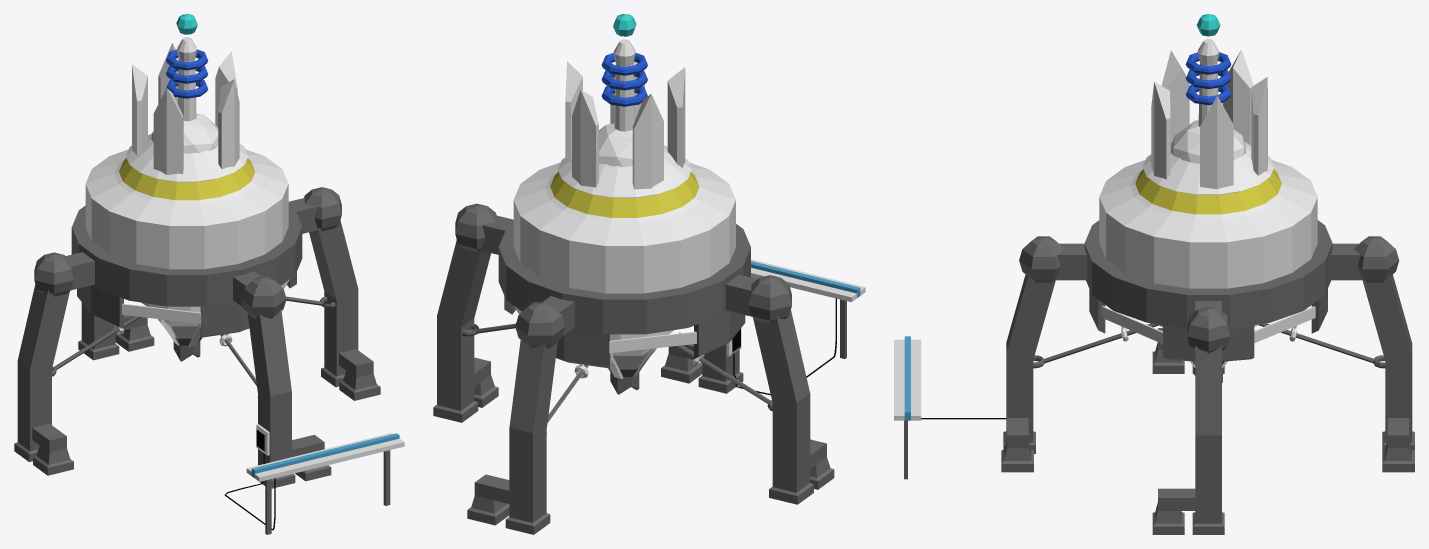
File: FullBuildingHub.fbx
3 renders of one model, left to right at view 1: azimuth 30°, elevation 25°; view 2: azimuth 150°, elevation 25°; view 3: azimuth 270°, elevation 25°, orthographic. The views are drawn at different scales.
Parts seen in each view (by area): view 1: Building Hub, Terraform2, Shield 1; view 2: Building Hub, Shield 1, Terraform2; view 3: Building Hub, Shield 1, Terraform2.
Boxes of the visible parts, x1,y1,x2,y2 form: Building Hub: (14, 133, 404, 534); Terraform2: (32, 272, 380, 481); Shield 1: (132, 14, 239, 174); Building Hub: (433, 145, 865, 534); Shield 1: (565, 14, 685, 189); Terraform2: (462, 296, 834, 525); Building Hub: (894, 142, 1414, 534); Shield 1: (1151, 14, 1267, 189); Terraform2: (1001, 289, 1414, 534).
Bounding box in the file's own units: 379 × 437 × 477.
